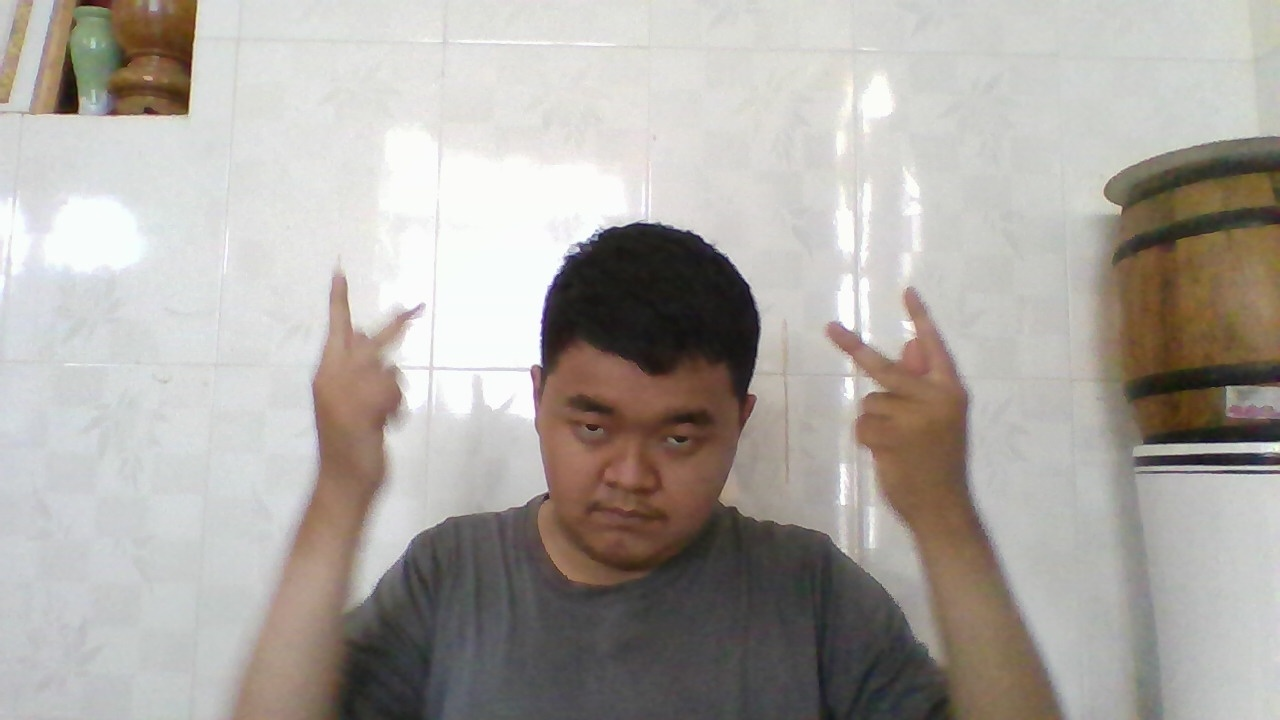K: (814, 278, 974, 519), (305, 261, 429, 487)
